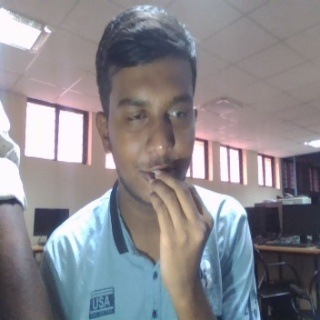Food: (145, 168, 217, 307)
